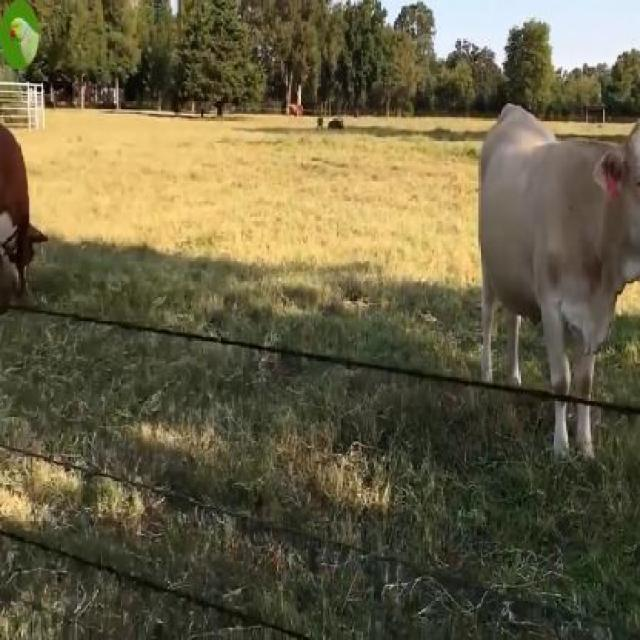Cow: (477, 102, 638, 466)
